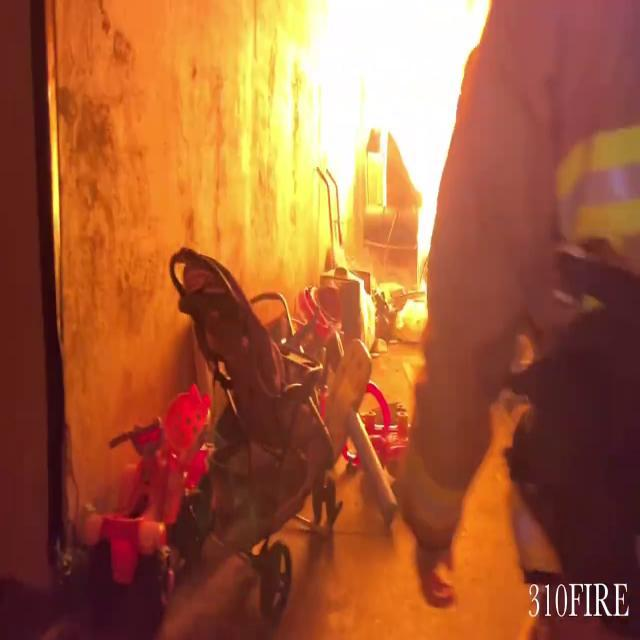Fire: (280, 0, 498, 295)
